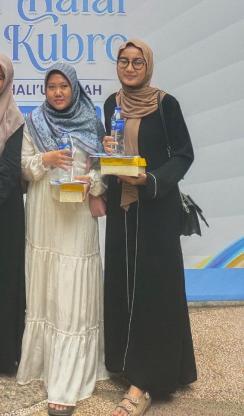Plastic Bottle: (59, 130, 76, 188), (113, 102, 131, 154)
